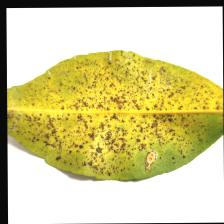canker: (55, 80, 182, 174)
